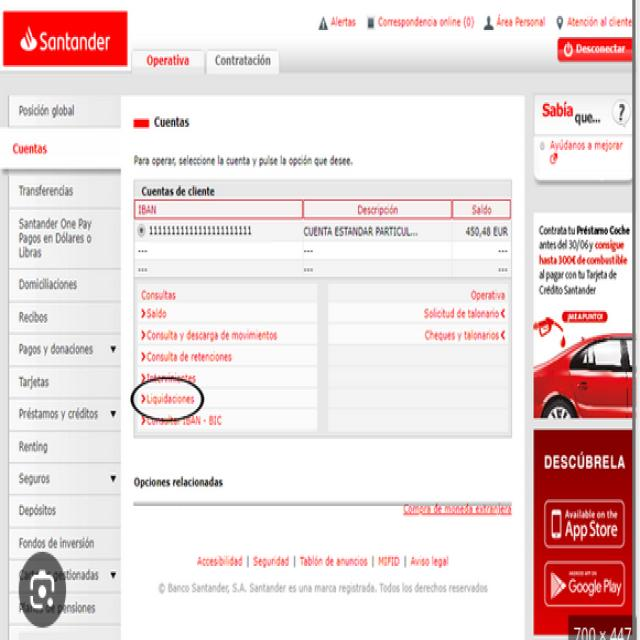santander: (21, 26, 37, 52)
